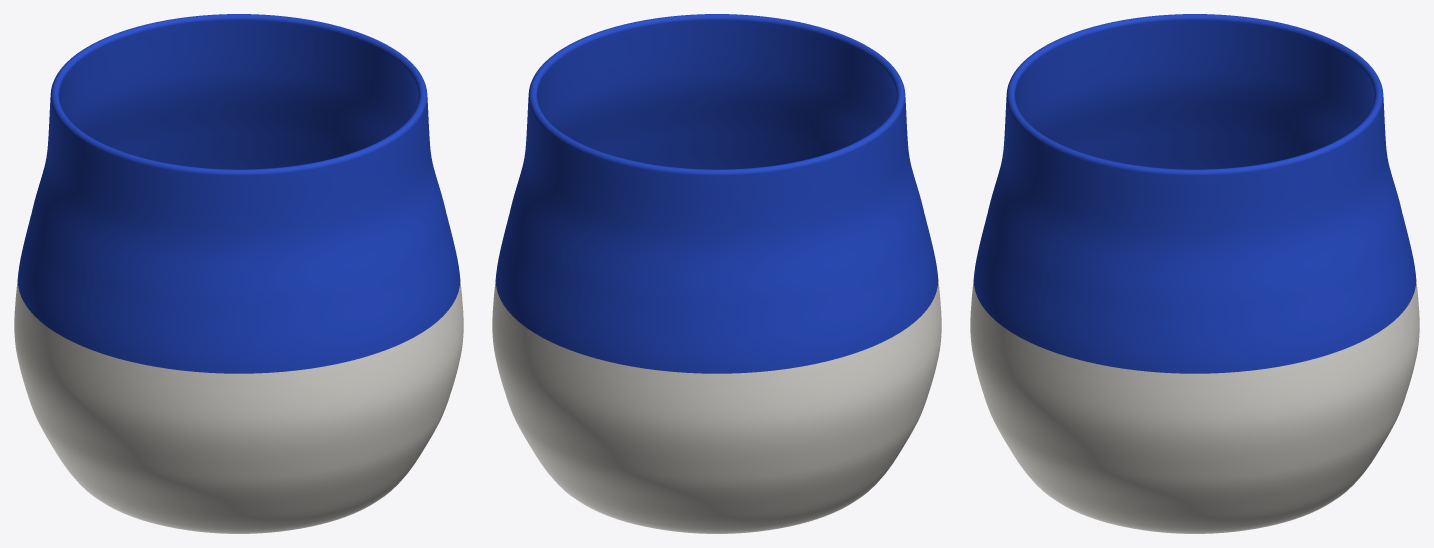
The model's file is loop-shaped-cobalt-chalk.glb.
3 renders of one model, left to right at view 1: azimuth 30°, elevation 25°; view 2: azimuth 150°, elevation 25°; view 3: azimuth 270°, elevation 25°, orthographic.
Parts seen in each view (by area): view 1: Loop open rounded pot; view 2: Loop open rounded pot; view 3: Loop open rounded pot.
Boxes of the visible parts, box(x1,y1,x2,y2) form: Loop open rounded pot: box(14, 14, 463, 533); Loop open rounded pot: box(492, 14, 941, 533); Loop open rounded pot: box(970, 14, 1419, 533).
Bounding box in the file's own units: 0.13 × 0.12 × 0.13.
